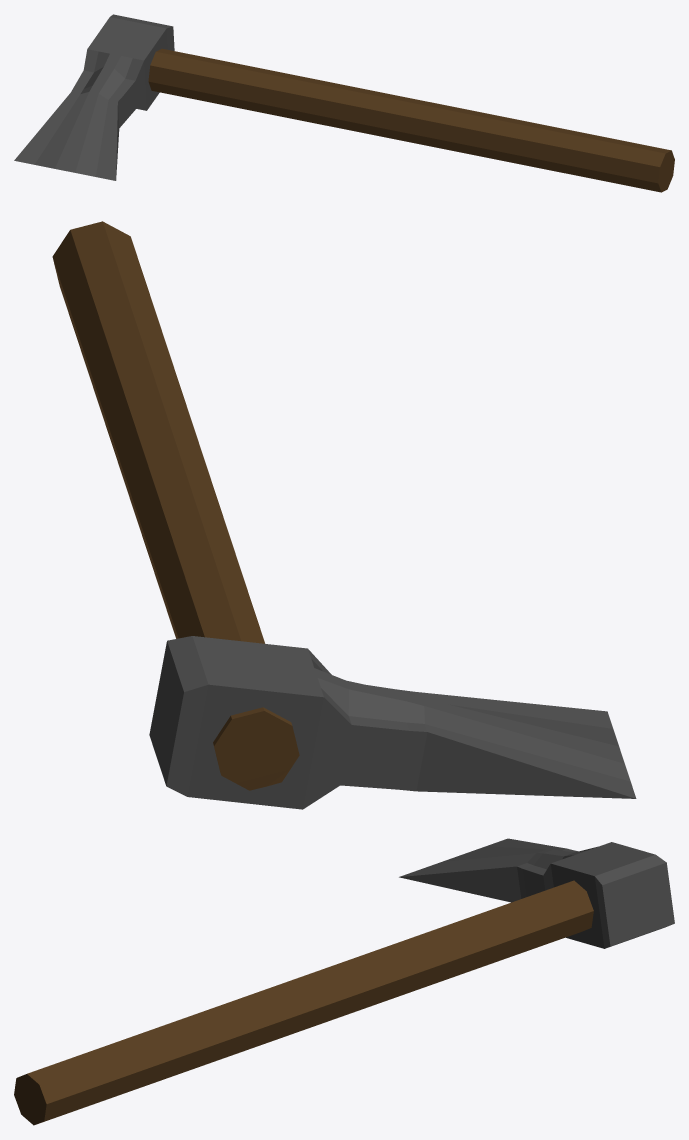
The model's file is Axe(Pickup).fbx.
The picture shows the model from 3 angles, top to bottom: view 1: azimuth 30°, elevation 25°; view 2: azimuth 150°, elevation 25°; view 3: azimuth 270°, elevation 25°; orthographic projection. The views are drawn at different scales.
Visible parts, largest first — view 1: Axe; view 2: Axe; view 3: Axe.
Boxes of the visible parts, x1=… form: Axe: x1=14, y1=14, x2=674, y2=192; Axe: x1=52, y1=221, x2=636, y2=809; Axe: x1=14, y1=838, x2=674, y2=1125.
Bounding box in the file's own units: 44.67 × 5.91 × 42.91.
